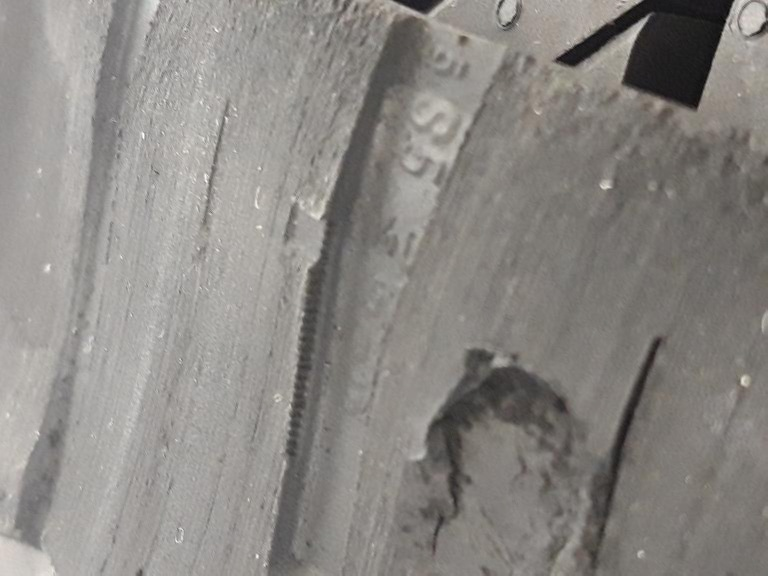temoin:0: (268, 191, 344, 289)
